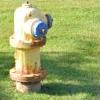a fire hydrant: (12, 3, 47, 82)
